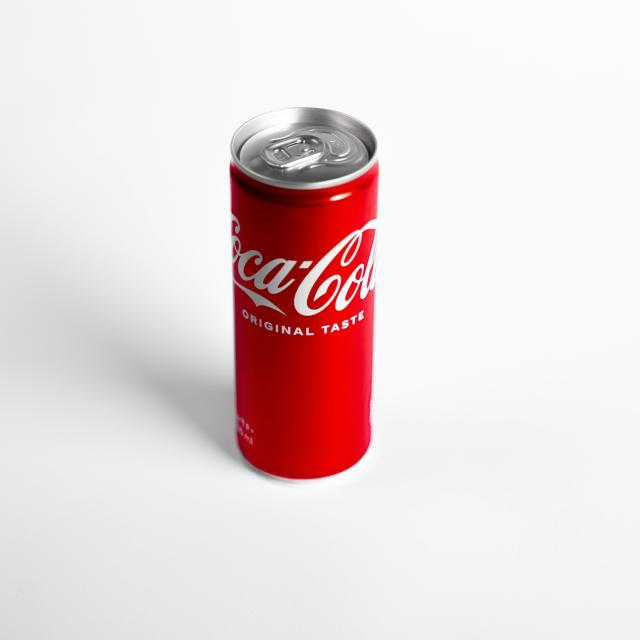coca cola: (233, 217, 377, 322)
